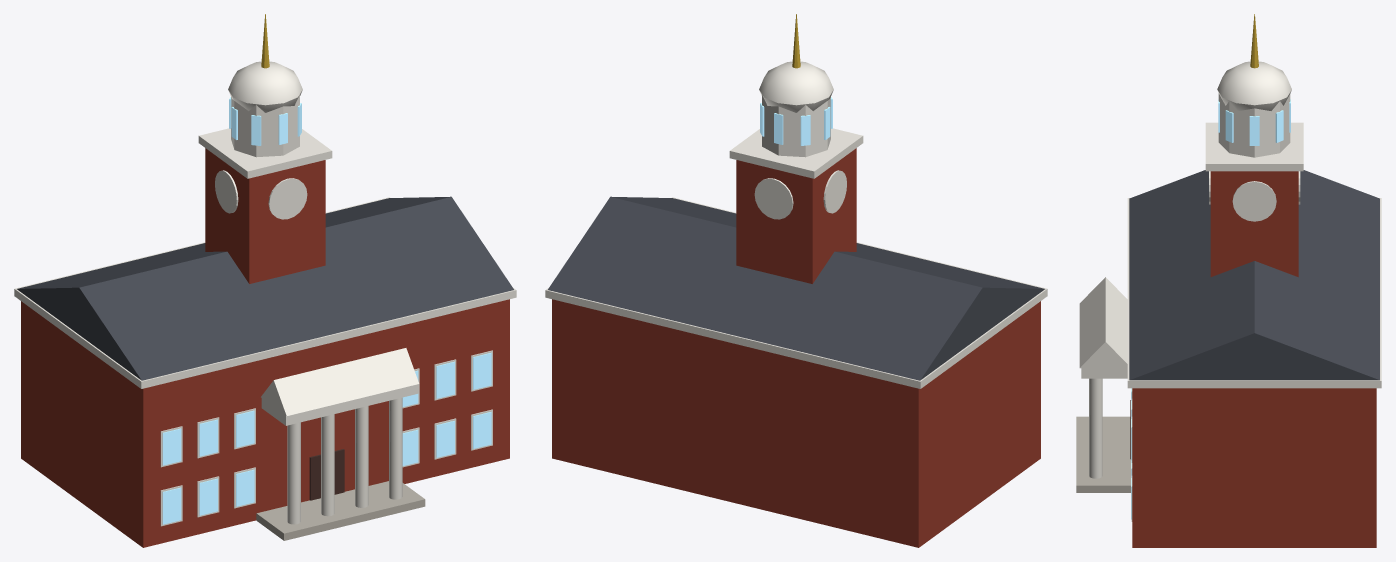
File: town_mw_library.glb
3 views of the same model, side by side, from view 1: azimuth 30°, elevation 25°; view 2: azimuth 150°, elevation 25°; view 3: azimuth 270°, elevation 25° (orthographic).
Parts seen in each view (by area): view 1: TownMwLibrary_body; view 2: TownMwLibrary_body; view 3: TownMwLibrary_body.
Part boxes in pixels (<box>): TownMwLibrary_body: <box>14,14,516,547</box>; TownMwLibrary_body: <box>545,14,1047,547</box>; TownMwLibrary_body: <box>1076,14,1381,547</box>.
Bounding box in the file's own units: 26.6 × 30.1 × 18.75.
